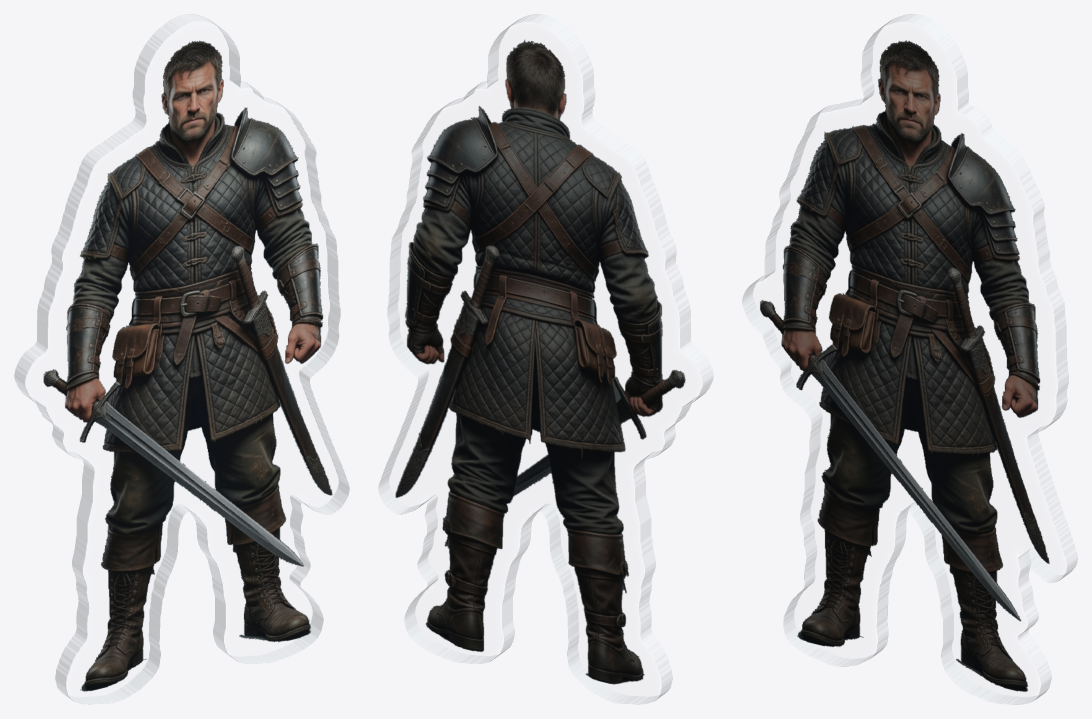
Rendered from gareth-v64.glb.
The picture shows the model from 3 angles, left to right: view 1: azimuth 30°, elevation 25°; view 2: azimuth 150°, elevation 25°; view 3: azimuth 330°, elevation 25°; orthographic projection.
Parts seen in each view (by area): view 1: gareth_standee_v64; view 2: gareth_standee_v64; view 3: gareth_standee_v64.
Part boxes in pixels (x1,y1,x2,y2): gareth_standee_v64: (14,14,349,704); gareth_standee_v64: (378,14,713,704); gareth_standee_v64: (742,14,1077,704).
Bounding box in the file's own units: 0.6683 × 1.3 × 0.04.
3 materials, 2 textured.
